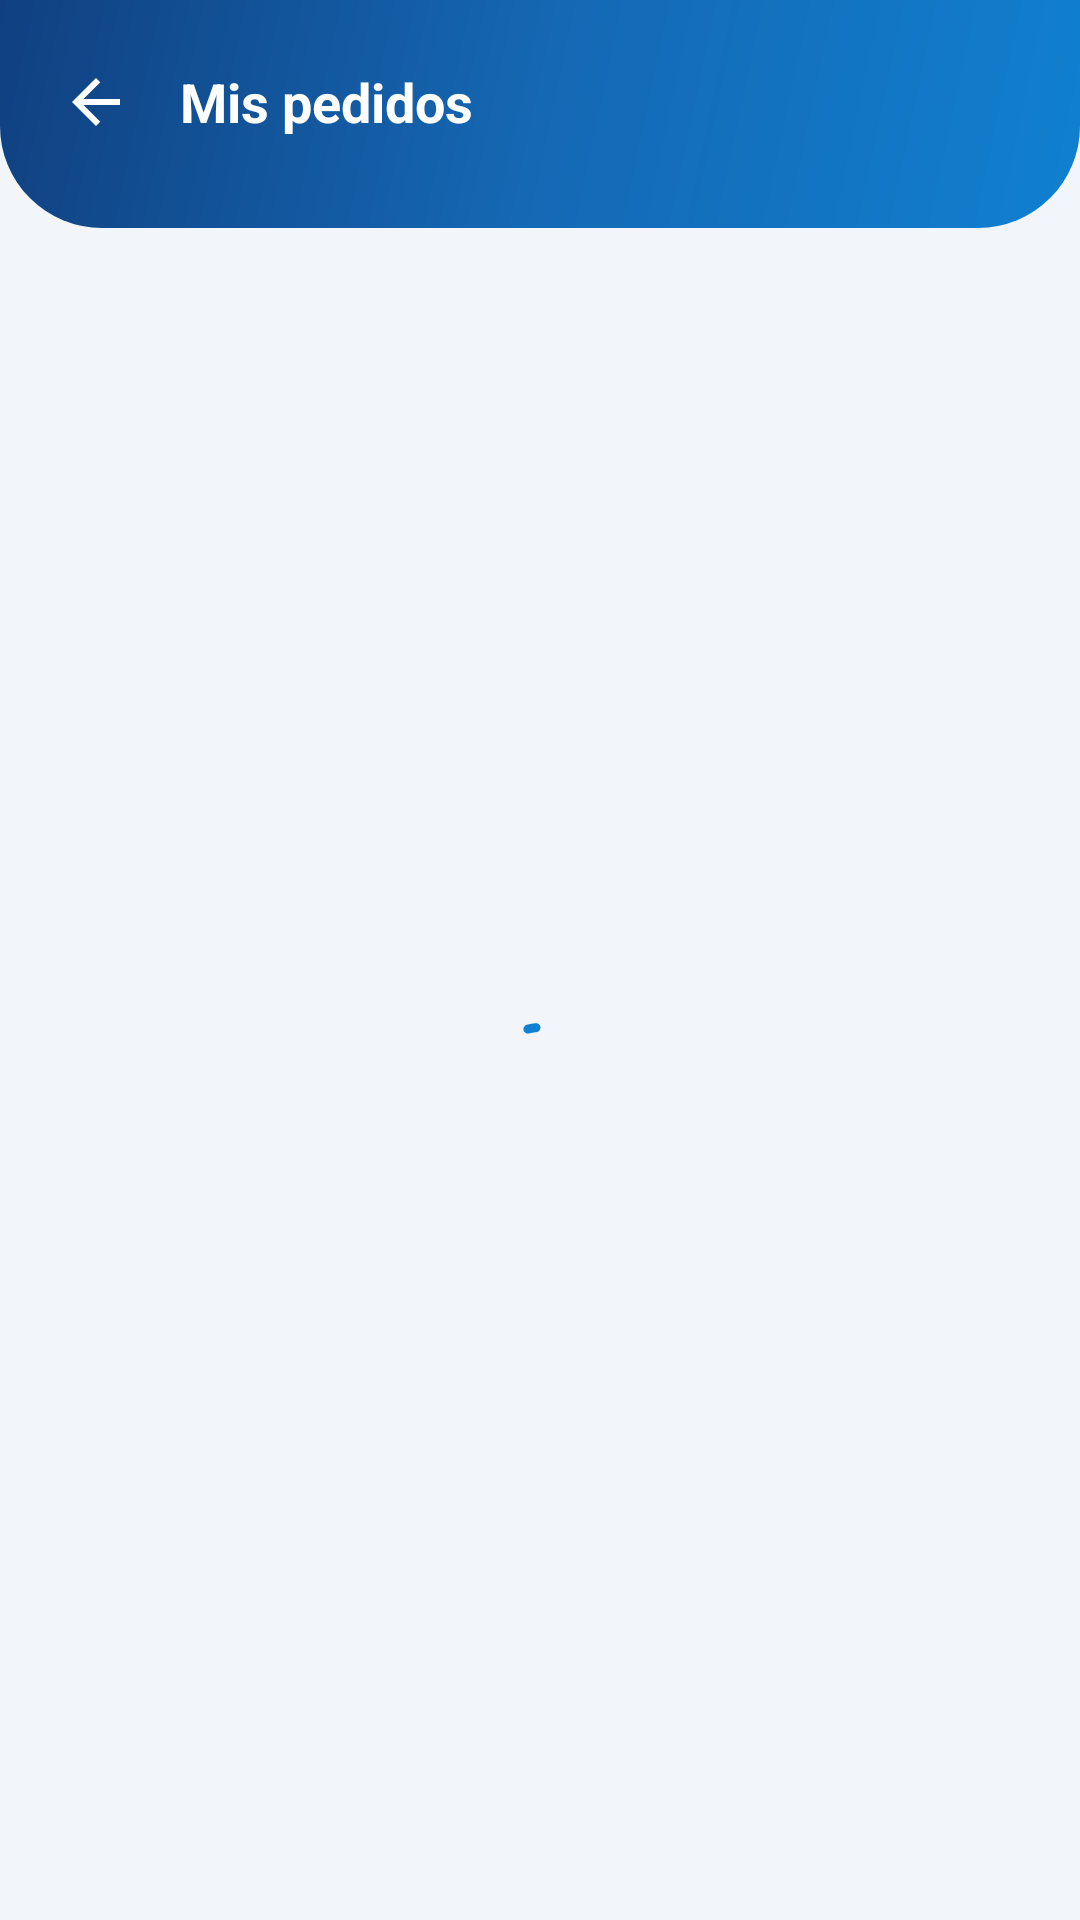

Screen size 1080 x 1920. Icon name, then its box in pixels as [x1,y1,x2,y2]:
Volver: [72,78,120,126]
